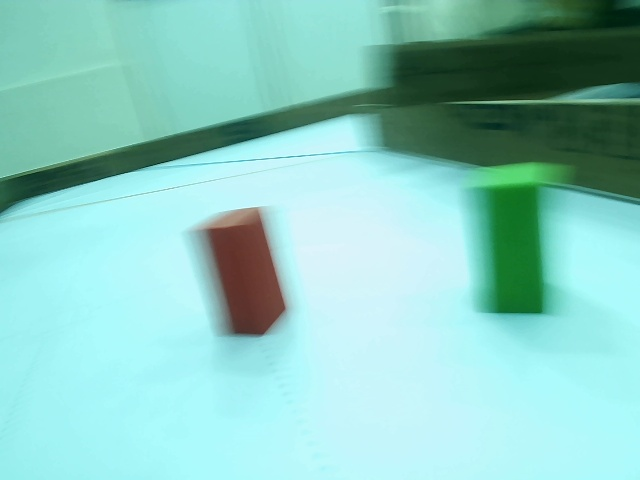red: (199, 211, 284, 329)
